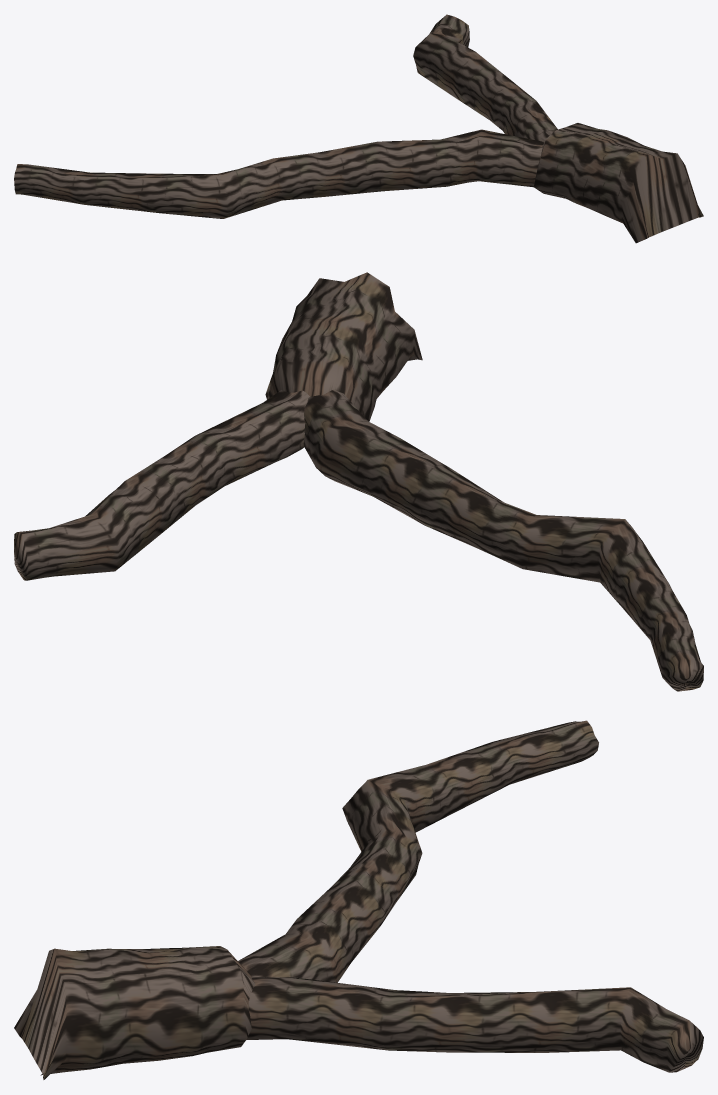
Rendered from fallen-a.lod0.glb.
3 views of the same model, one above another, from view 1: azimuth 30°, elevation 25°; view 2: azimuth 150°, elevation 25°; view 3: azimuth 270°, elevation 25° (orthographic). The views are drawn at different scales.
Parts seen in each view (by area): view 1: bark; view 2: bark; view 3: bark.
Boxes of the visible parts, x1,y1,x2,y2 form: bark: (14,14,703,243); bark: (14,272,703,691); bark: (14,720,703,1079).
Size of the model in its own units: 4.43 by 0.6096 by 3.9.
Materials: 1 (1 with a texture image).
